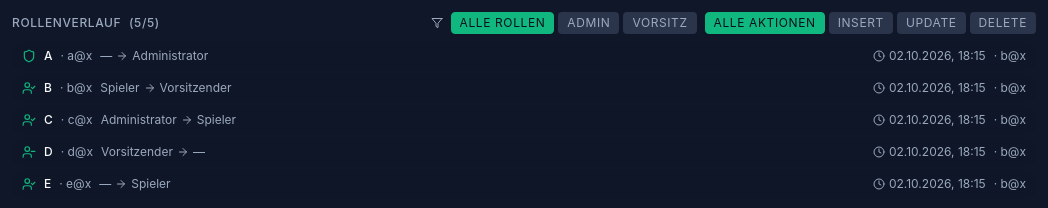
Scenario: ClubRoleHistory – Rollenfilter › filtert "admin" über old_role ODER new_role (kein false positive)
Expected: the text "(5/5)" is shown, [129, 15, 160, 30]
Click the button "Admin" at (589, 23), box [558, 12, 619, 34]
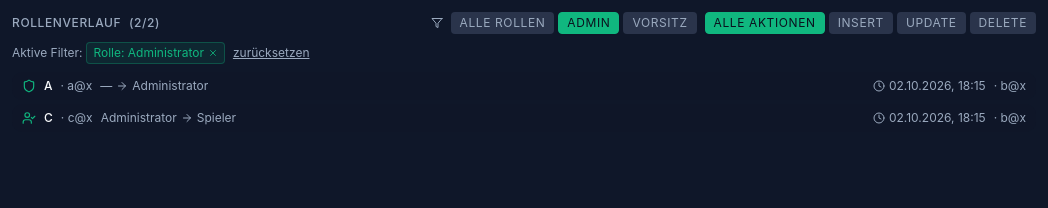
Expected: the text "(2/2)" is shown, [129, 15, 160, 30]
